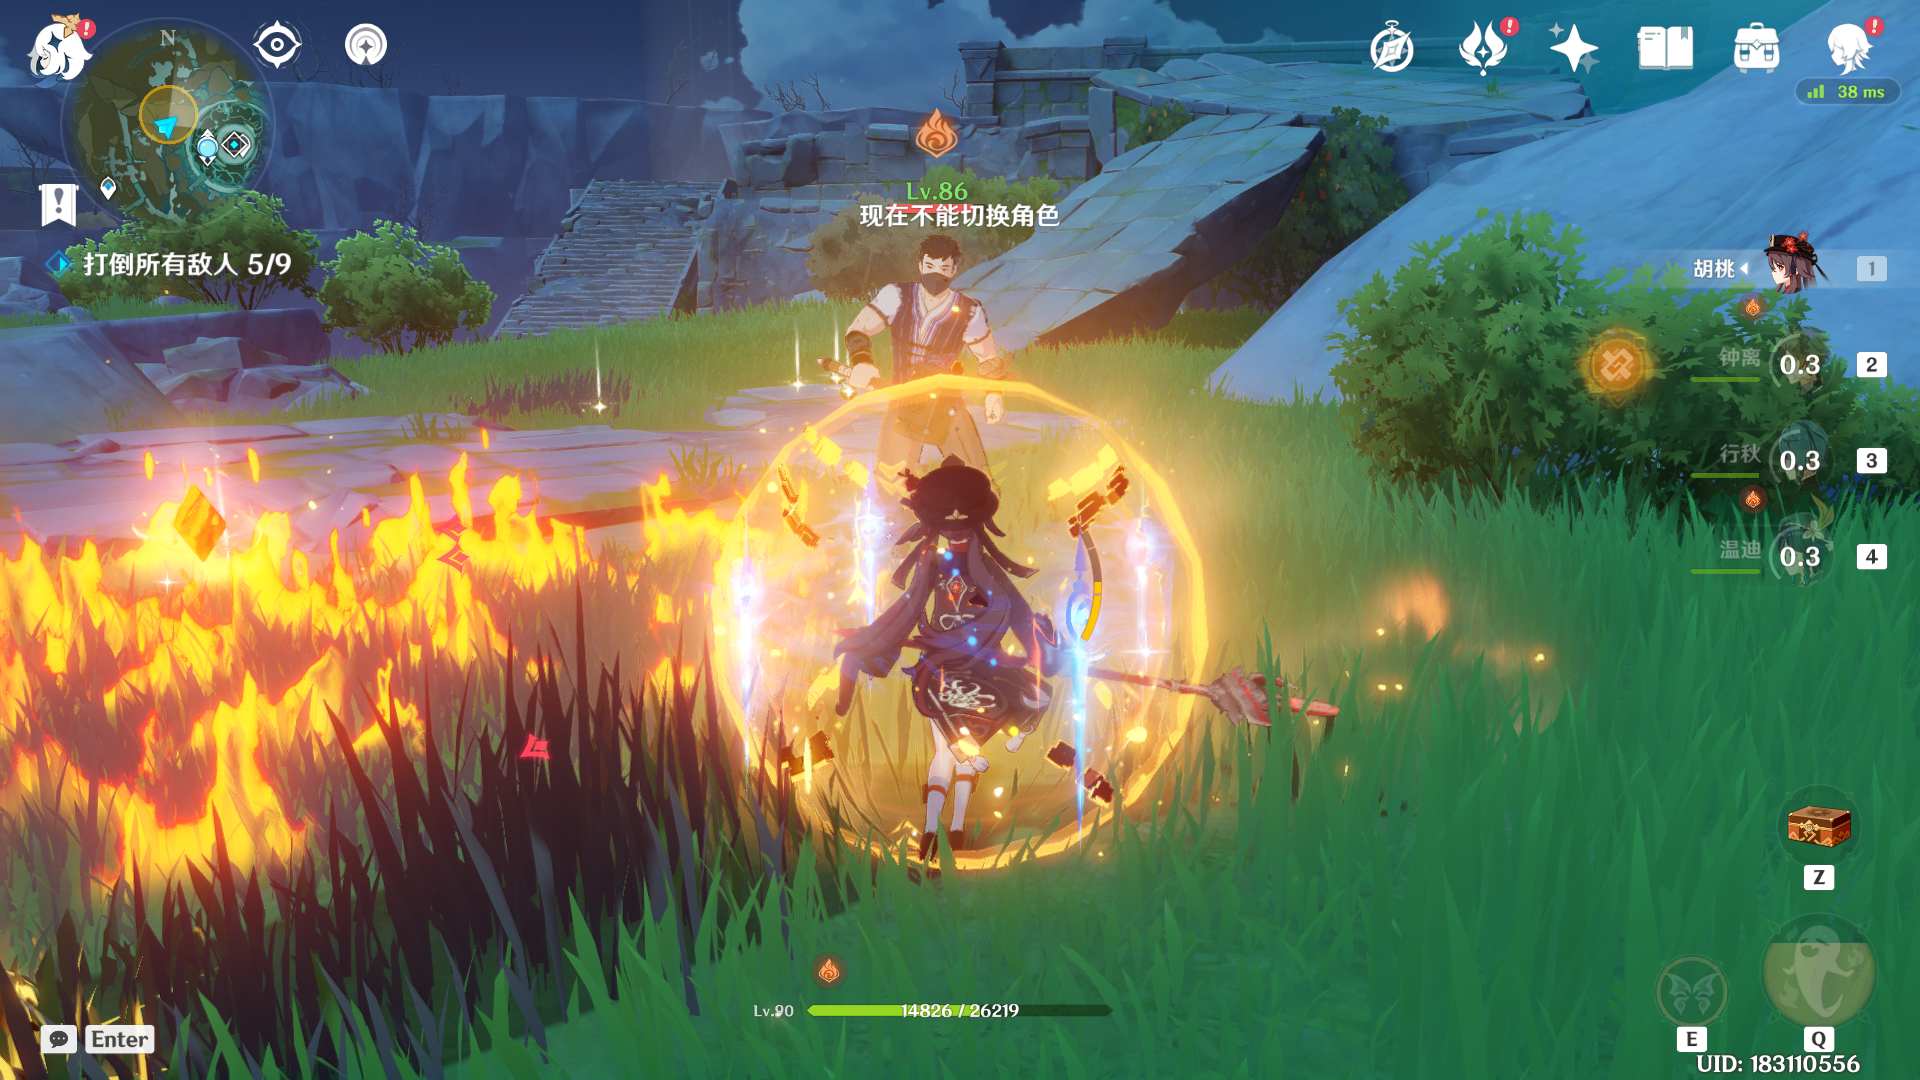character: (796, 440, 1160, 905)
robber: (833, 231, 1027, 546)
